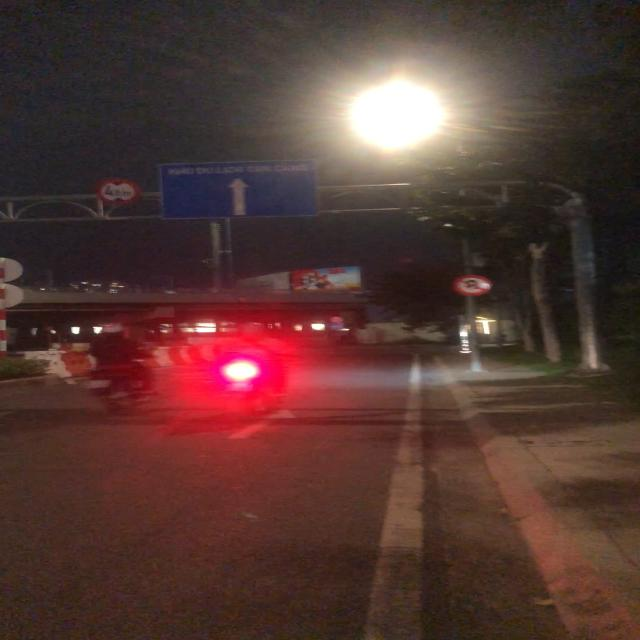Bien bao cam quay dau xe: (453, 272, 495, 298)
Bien bao han che chieu cao: (94, 177, 143, 206)
